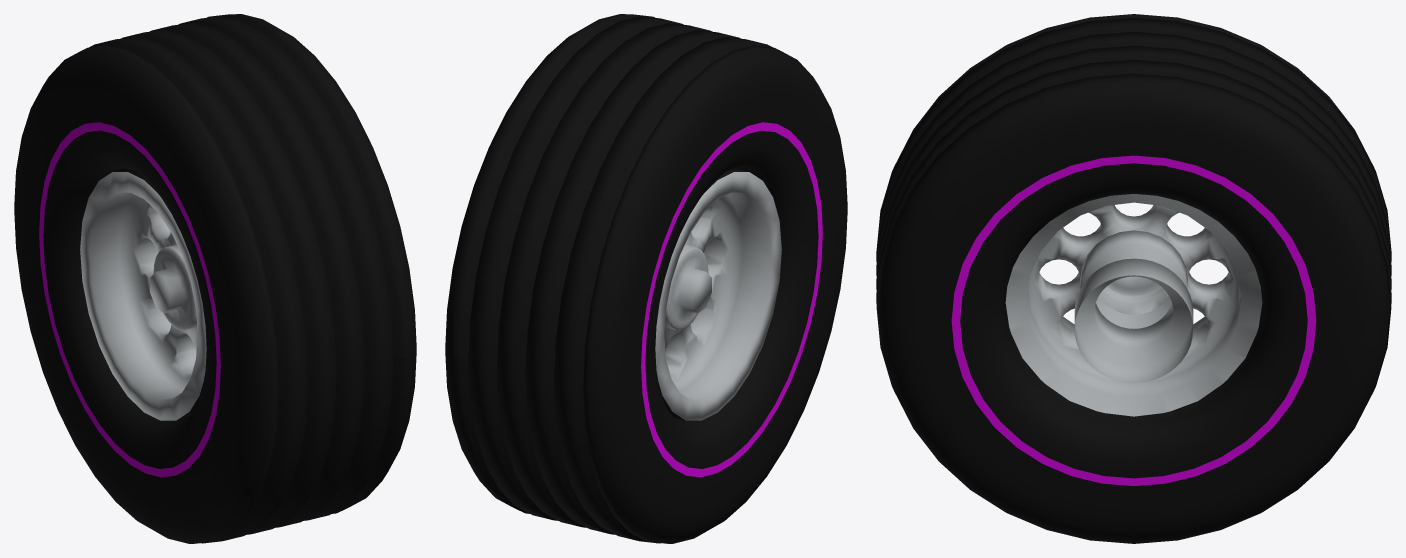
File: PinkPain_wheel.fbx
3 renders of one model, left to right at view 1: azimuth 30°, elevation 25°; view 2: azimuth 150°, elevation 25°; view 3: azimuth 270°, elevation 25°, orthographic.
Parts seen in each view (by area): view 1: PinkPain_Wheel; view 2: PinkPain_Wheel; view 3: PinkPain_Wheel.
Part boxes in pixels (x1,y1,x2,y2): PinkPain_Wheel: [14, 14, 416, 543]; PinkPain_Wheel: [445, 14, 847, 543]; PinkPain_Wheel: [876, 14, 1391, 543].
Size of the model in its own units: 12.14 by 28.69 by 28.69.
